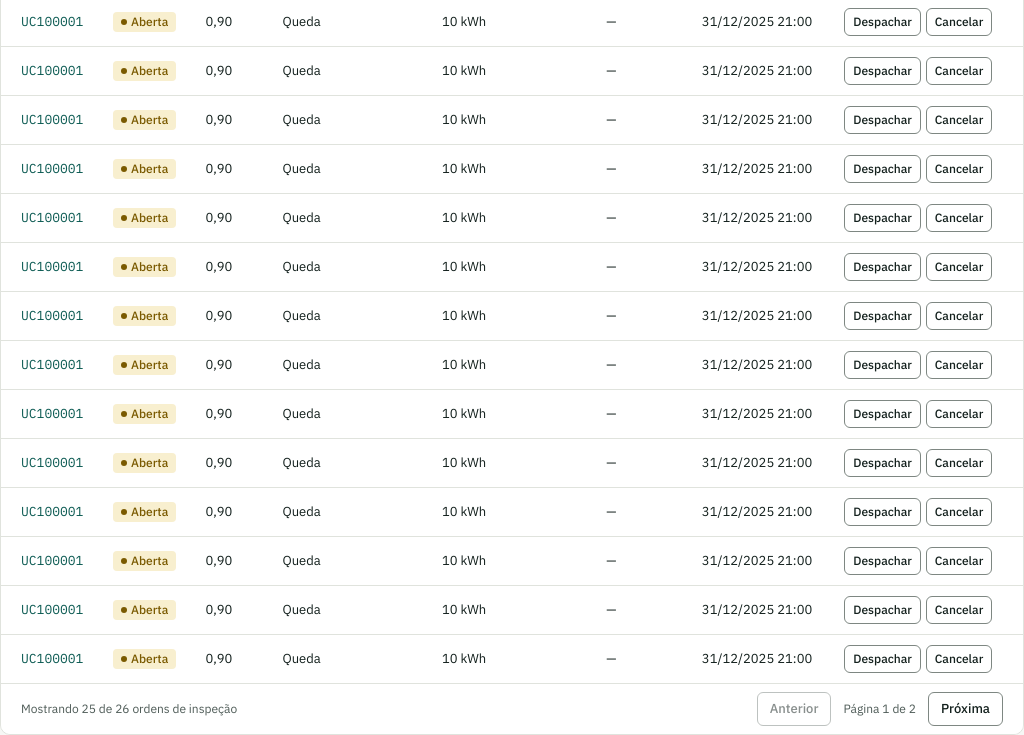
Test case: Página Perdas › recua a página de ordens depois de despachar o último item filtrado
(page scrolled)
Step 1. Click the button "Próxima" → (966,709), box [928,692,1003,726]
(page scrolled)
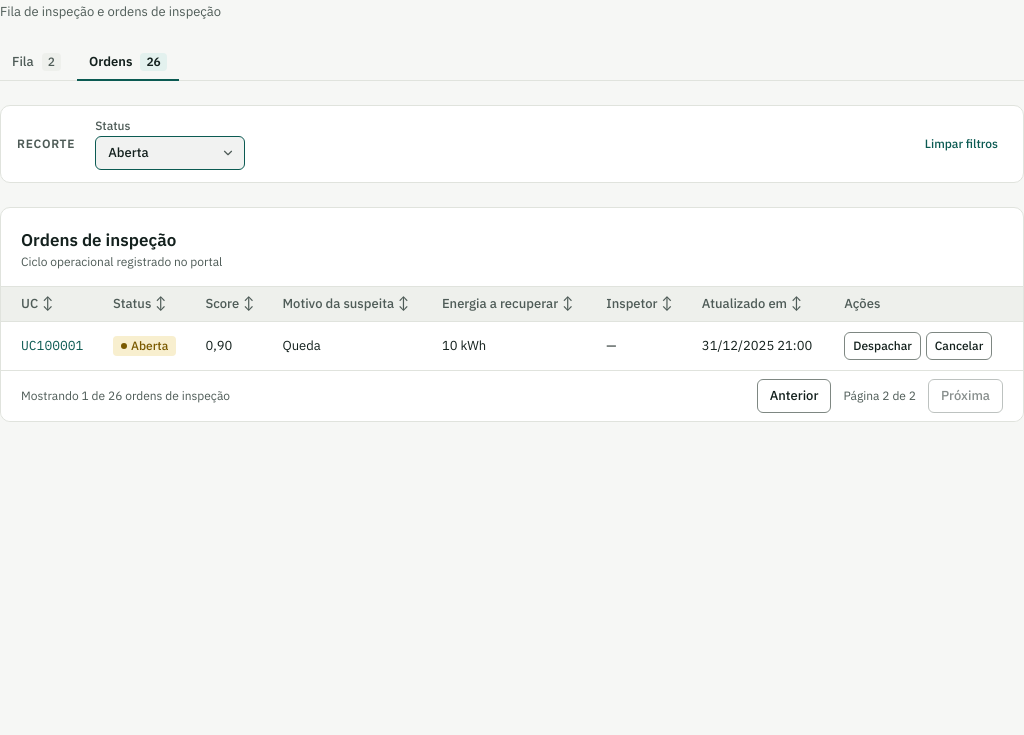
Now the text "Página 2 de 2" is shown, box [843,386,916,406]
Step 2. Click the button "Despachar" → (883,346), box [844,332,921,360]
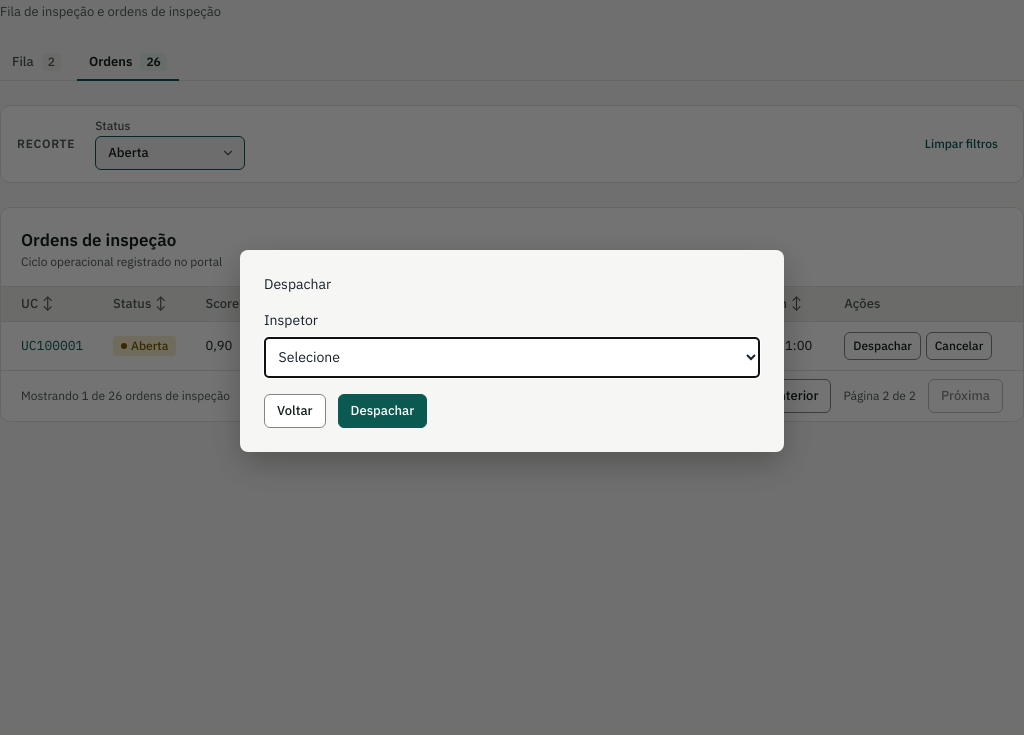
Step 3. Select "INSP-001" in the dropdown labelled "Inspetor" → (512,357), box [264,337,760,378]
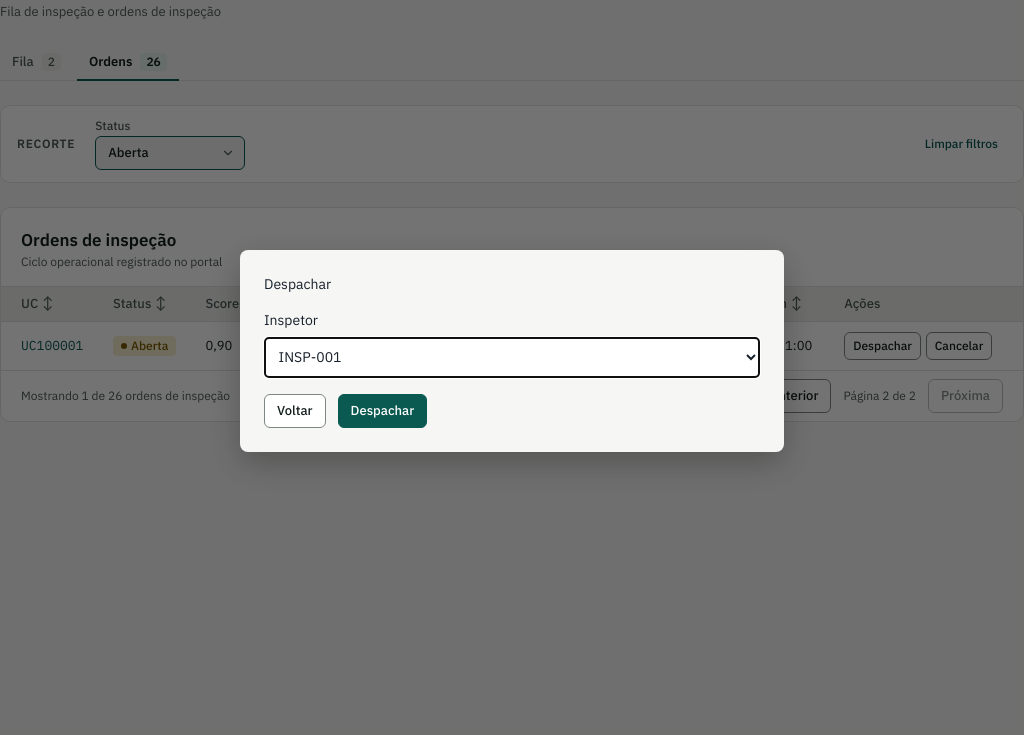
Step 4. Click the button "Despachar" → (382,411), box [338,394,427,428]
(page scrolled)
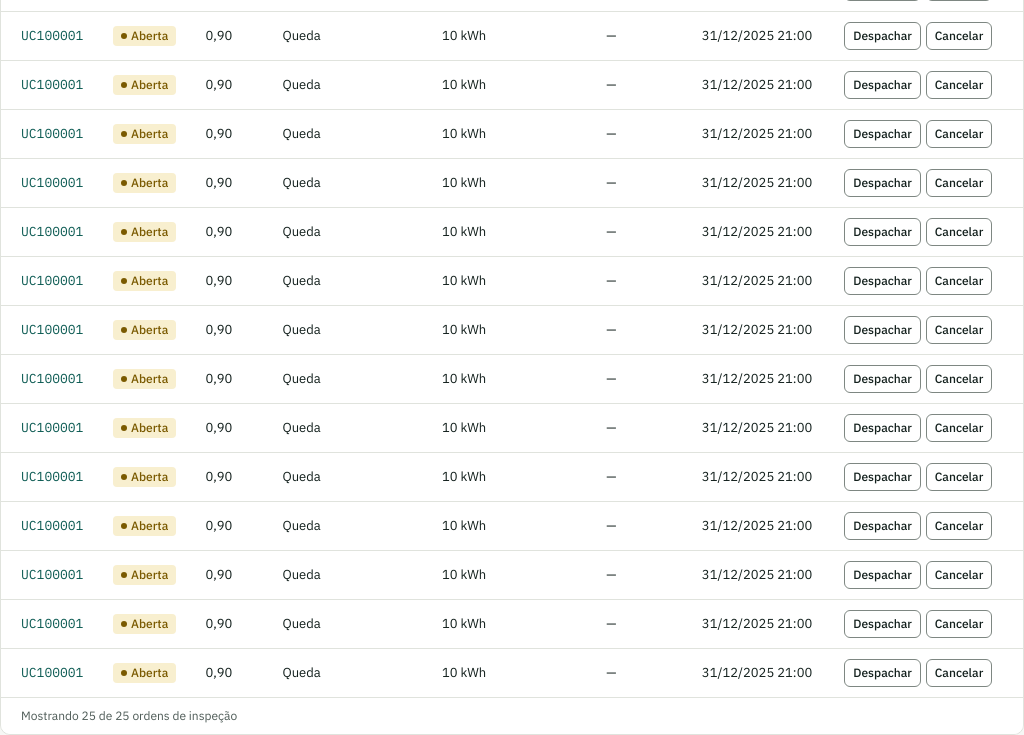
Now the text "Mostrando 25 de 25 ordens de inspeção" is shown, box [21,706,237,726]
